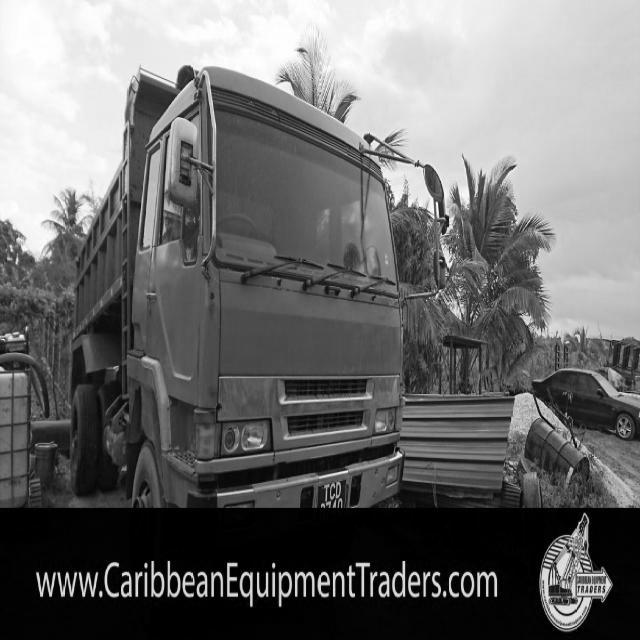truck: (98, 56, 424, 507)
